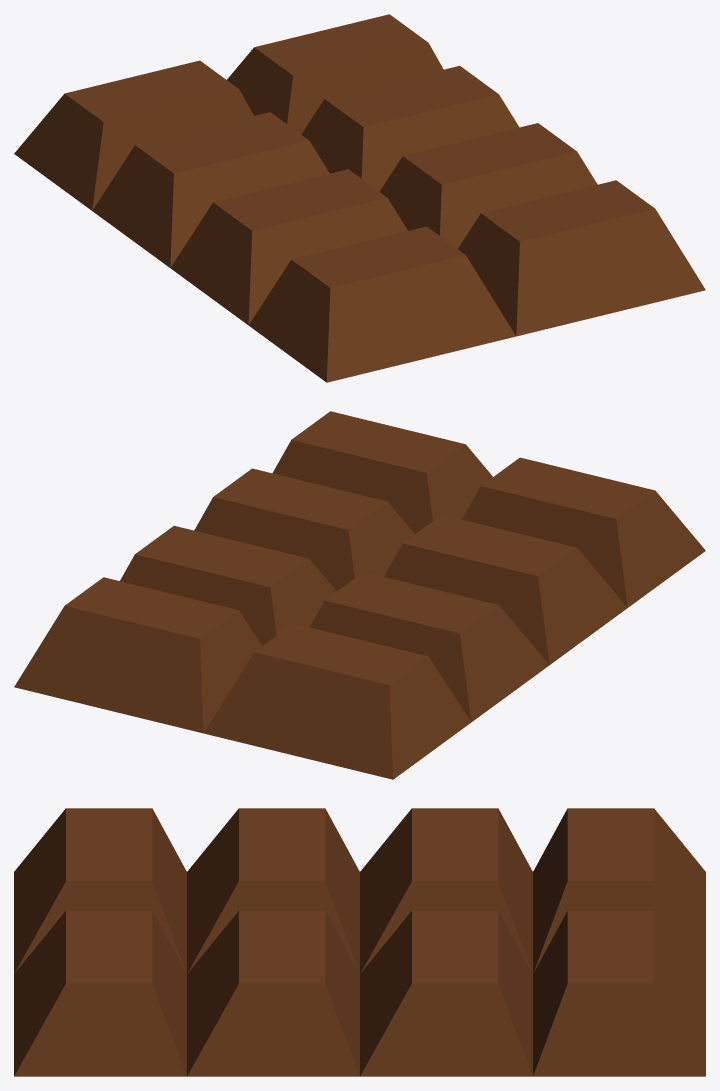
File: inv_chocolate_bar.obj
3 views of the same model, one above another, from view 1: azimuth 30°, elevation 25°; view 2: azimuth 150°, elevation 25°; view 3: azimuth 270°, elevation 25° (orthographic). The views are drawn at different scales.
Size of the model in its own units: 0.2188 by 0.0391 by 0.3125.
